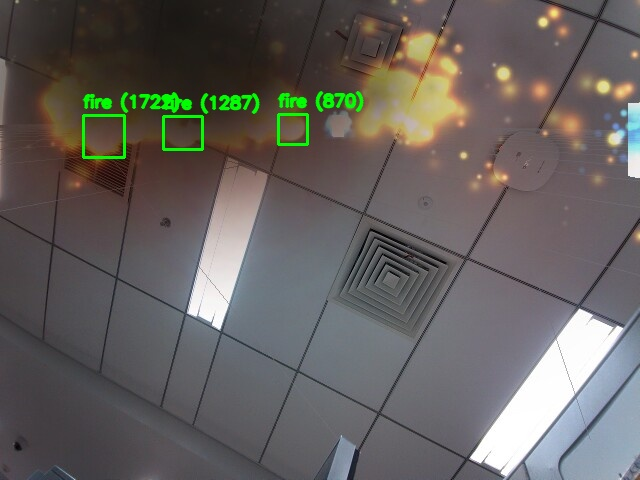fire: (83, 115, 124, 157), (163, 116, 202, 149), (278, 114, 307, 144)
